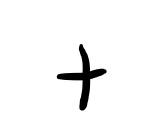plus: (57, 44, 107, 110)
